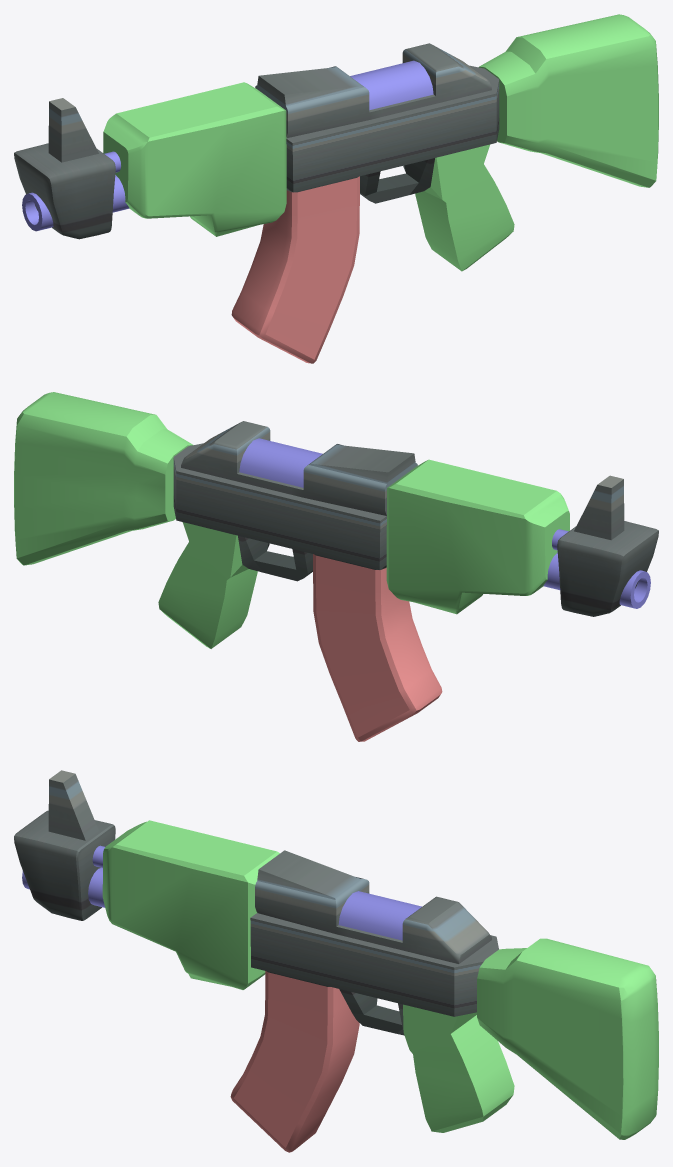
The model's file is AssaultRifle.fbx.
3 renders of one model, top to bottom at view 1: azimuth 30°, elevation 25°; view 2: azimuth 150°, elevation 25°; view 3: azimuth 330°, elevation 25°, orthographic.
Visible parts, largest first — view 1: SM_Rifle01; view 2: SM_Rifle01; view 3: SM_Rifle01.
Boxes of the visible parts, left/top/right/bottom form: SM_Rifle01: left=14, top=14, right=658, bottom=363; SM_Rifle01: left=14, top=392, right=658, bottom=741; SM_Rifle01: left=14, top=770, right=658, bottom=1152.
Size of the model in its own units: 162 by 77.91 by 19.23.
